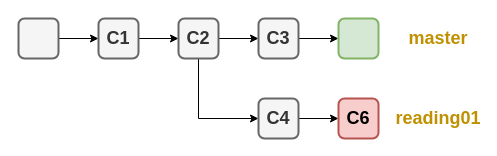
Image size: 497x156. Some labels were removed from this diagram. Each missing label, with the centre of its shape:
C0: the point at 38,38
C5: the point at 358,38
